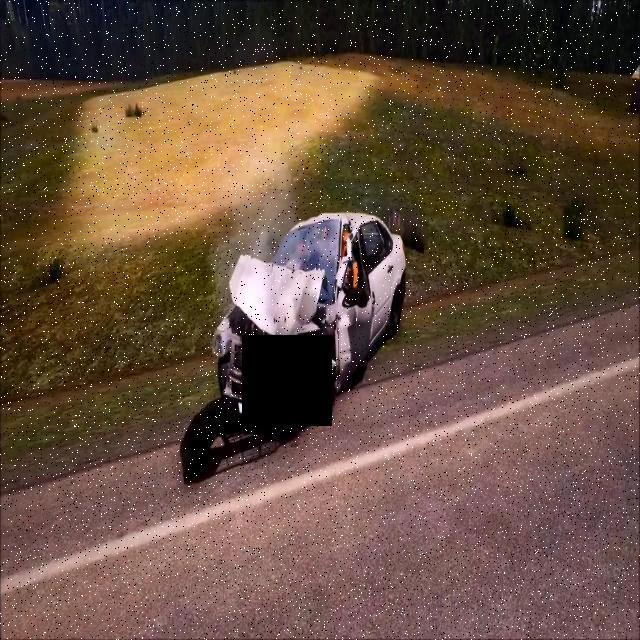single accident: (210, 126, 406, 443)
